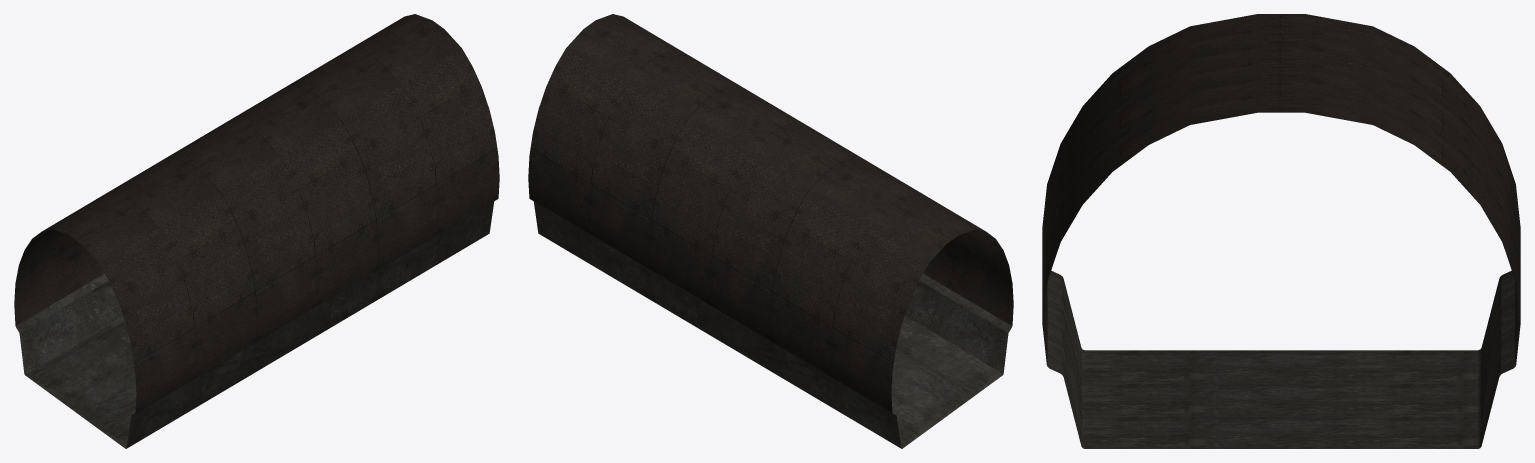
The model's file is tunnel_straight_down_2.dae.
The picture shows the model from 3 angles, left to right: view 1: azimuth 30°, elevation 25°; view 2: azimuth 150°, elevation 25°; view 3: azimuth 270°, elevation 25°; orthographic projection. The views are drawn at different scales.
Parts seen in each view (by area): view 1: tunnel_straight_down_2; view 2: tunnel_straight_down_2; view 3: tunnel_straight_down_2.
Part boxes in pixels (box(x1,y1,x2,y2)): tunnel_straight_down_2: box(14, 14, 499, 448); tunnel_straight_down_2: box(528, 14, 1013, 448); tunnel_straight_down_2: box(1042, 14, 1520, 448).
Bounding box in the file's own units: 6 × 3.5 × 4.72.
2 materials, 2 textured.
